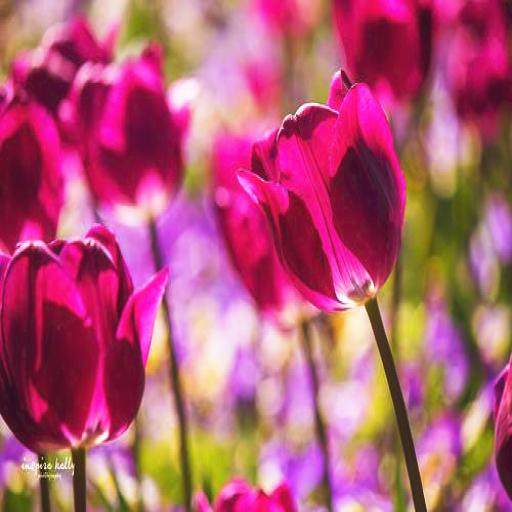tulip: (240, 74, 406, 307)
